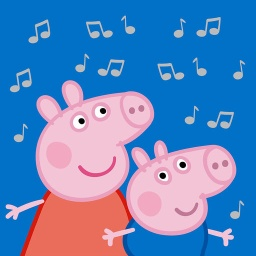Peppa: (6, 79, 158, 256)
